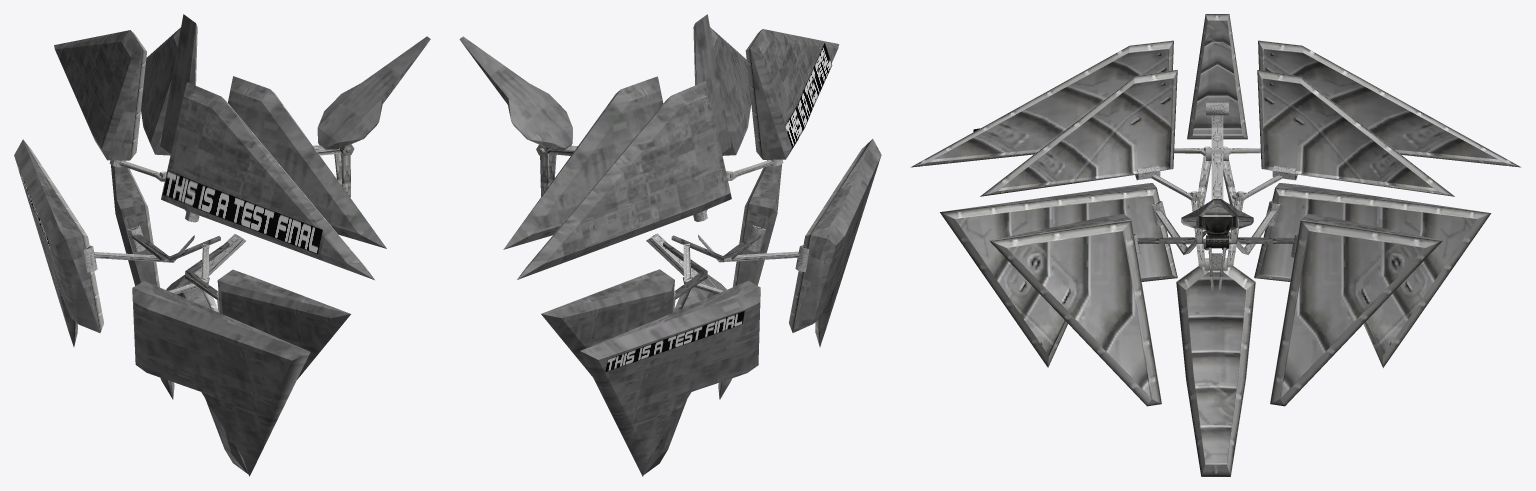
Rendered from spp33.obj.
3 renders of one model, left to right at view 1: azimuth 30°, elevation 25°; view 2: azimuth 150°, elevation 25°; view 3: azimuth 270°, elevation 25°, orthographic. The views are drawn at different scales.
Visible parts, largest first — view 1: WING_A_BOT_R0, WING_A_TOP_L0, WING_A_TOP_R0, WING_TOP_LEFT0, WING_A_BOT_L0, WING_BOT_LEFT0, TOP_MID020, NAMEDECAL0.006, WING_BOT_RIGHT0, WING_TOP_RIGHT0, TOP_MID010, BOT_MID_PLATE0 (+5 smaller); view 2: WING_A_TOP_R0, WING_A_BOT_L0, WING_A_BOT_R0, WING_TOP_RIGHT0, WING_A_TOP_L0, WING_BOT_RIGHT0, TOP_MID020, WING_BOT_LEFT0, WING_TOP_LEFT0, TOP_MID010, NAMEDECAL010.003, NAMEDECAL0.006 (+6 smaller); view 3: WING_BOT_RIGHT0, WING_BOT_LEFT0, WING_A_BOT_R0, WING_A_BOT_L0, BOT_MID_PLATE0, WING_TOP_RIGHT0, WING_TOP_LEFT0, WING_A_TOP_L0, WING_A_TOP_R0, TOP_MID010, SPP320, TOP_MID020 (+1 smaller).
Part boxes in pixels (x1=…): WING_A_BOT_R0: x1=132, y1=281, x2=310, y2=476; WING_A_TOP_L0: x1=161, y1=82, x2=374, y2=279; WING_A_TOP_R0: x1=54, y1=30, x2=146, y2=167; WING_TOP_LEFT0: x1=228, y1=76, x2=386, y2=248; WING_A_BOT_L0: x1=14, y1=139, x2=103, y2=346; WING_BOT_LEFT0: x1=216, y1=269, x2=350, y2=442; TOP_MID020: x1=317, y1=36, x2=430, y2=150; NAMEDECAL0.006: x1=162, y1=170, x2=322, y2=254; WING_BOT_RIGHT0: x1=111, y1=160, x2=174, y2=399; WING_TOP_RIGHT0: x1=141, y1=27, x2=180, y2=155; TOP_MID010: x1=160, y1=14, x2=197, y2=154; BOT_MID_PLATE0: x1=166, y1=268, x2=247, y2=473; WING_A_TOP_R0: x1=517, y1=81, x2=731, y2=279; WING_A_BOT_L0: x1=580, y1=280, x2=760, y2=476; WING_A_BOT_R0: x1=789, y1=139, x2=881, y2=346; WING_TOP_RIGHT0: x1=503, y1=76, x2=663, y2=249; WING_A_TOP_L0: x1=745, y1=29, x2=839, y2=166; WING_BOT_RIGHT0: x1=541, y1=269, x2=675, y2=443; TOP_MID020: x1=459, y1=36, x2=572, y2=150; WING_BOT_LEFT0: x1=718, y1=160, x2=781, y2=399; WING_TOP_LEFT0: x1=710, y1=27, x2=751, y2=155; TOP_MID010: x1=693, y1=14, x2=730, y2=154; NAMEDECAL010.003: x1=605, y1=311, x2=744, y2=371; NAMEDECAL0.006: x1=785, y1=43, x2=832, y2=148; WING_BOT_RIGHT0: x1=1270, y1=213, x2=1442, y2=406; WING_BOT_LEFT0: x1=989, y1=213, x2=1161, y2=406; WING_A_BOT_R0: x1=940, y1=183, x2=1177, y2=367; WING_A_BOT_L0: x1=1254, y1=183, x2=1491, y2=367; BOT_MID_PLATE0: x1=1176, y1=258, x2=1255, y2=476; WING_TOP_RIGHT0: x1=1257, y1=70, x2=1454, y2=196; WING_TOP_LEFT0: x1=980, y1=70, x2=1177, y2=196; WING_A_TOP_L0: x1=910, y1=40, x2=1173, y2=167; WING_A_TOP_R0: x1=1258, y1=40, x2=1521, y2=167; TOP_MID010: x1=1187, y1=14, x2=1247, y2=148; SPP320: x1=1191, y1=156, x2=1243, y2=291; TOP_MID020: x1=1181, y1=199, x2=1253, y2=237.
Bounding box in the file's own units: 80.57 × 106 × 134.
23 materials, 23 textured.
